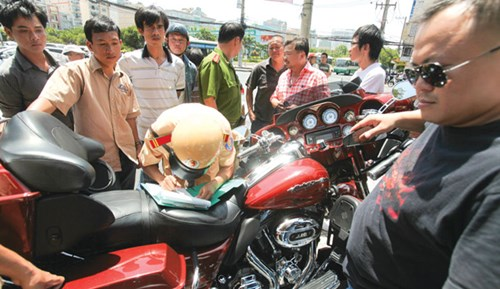police: (142, 100, 244, 196)
